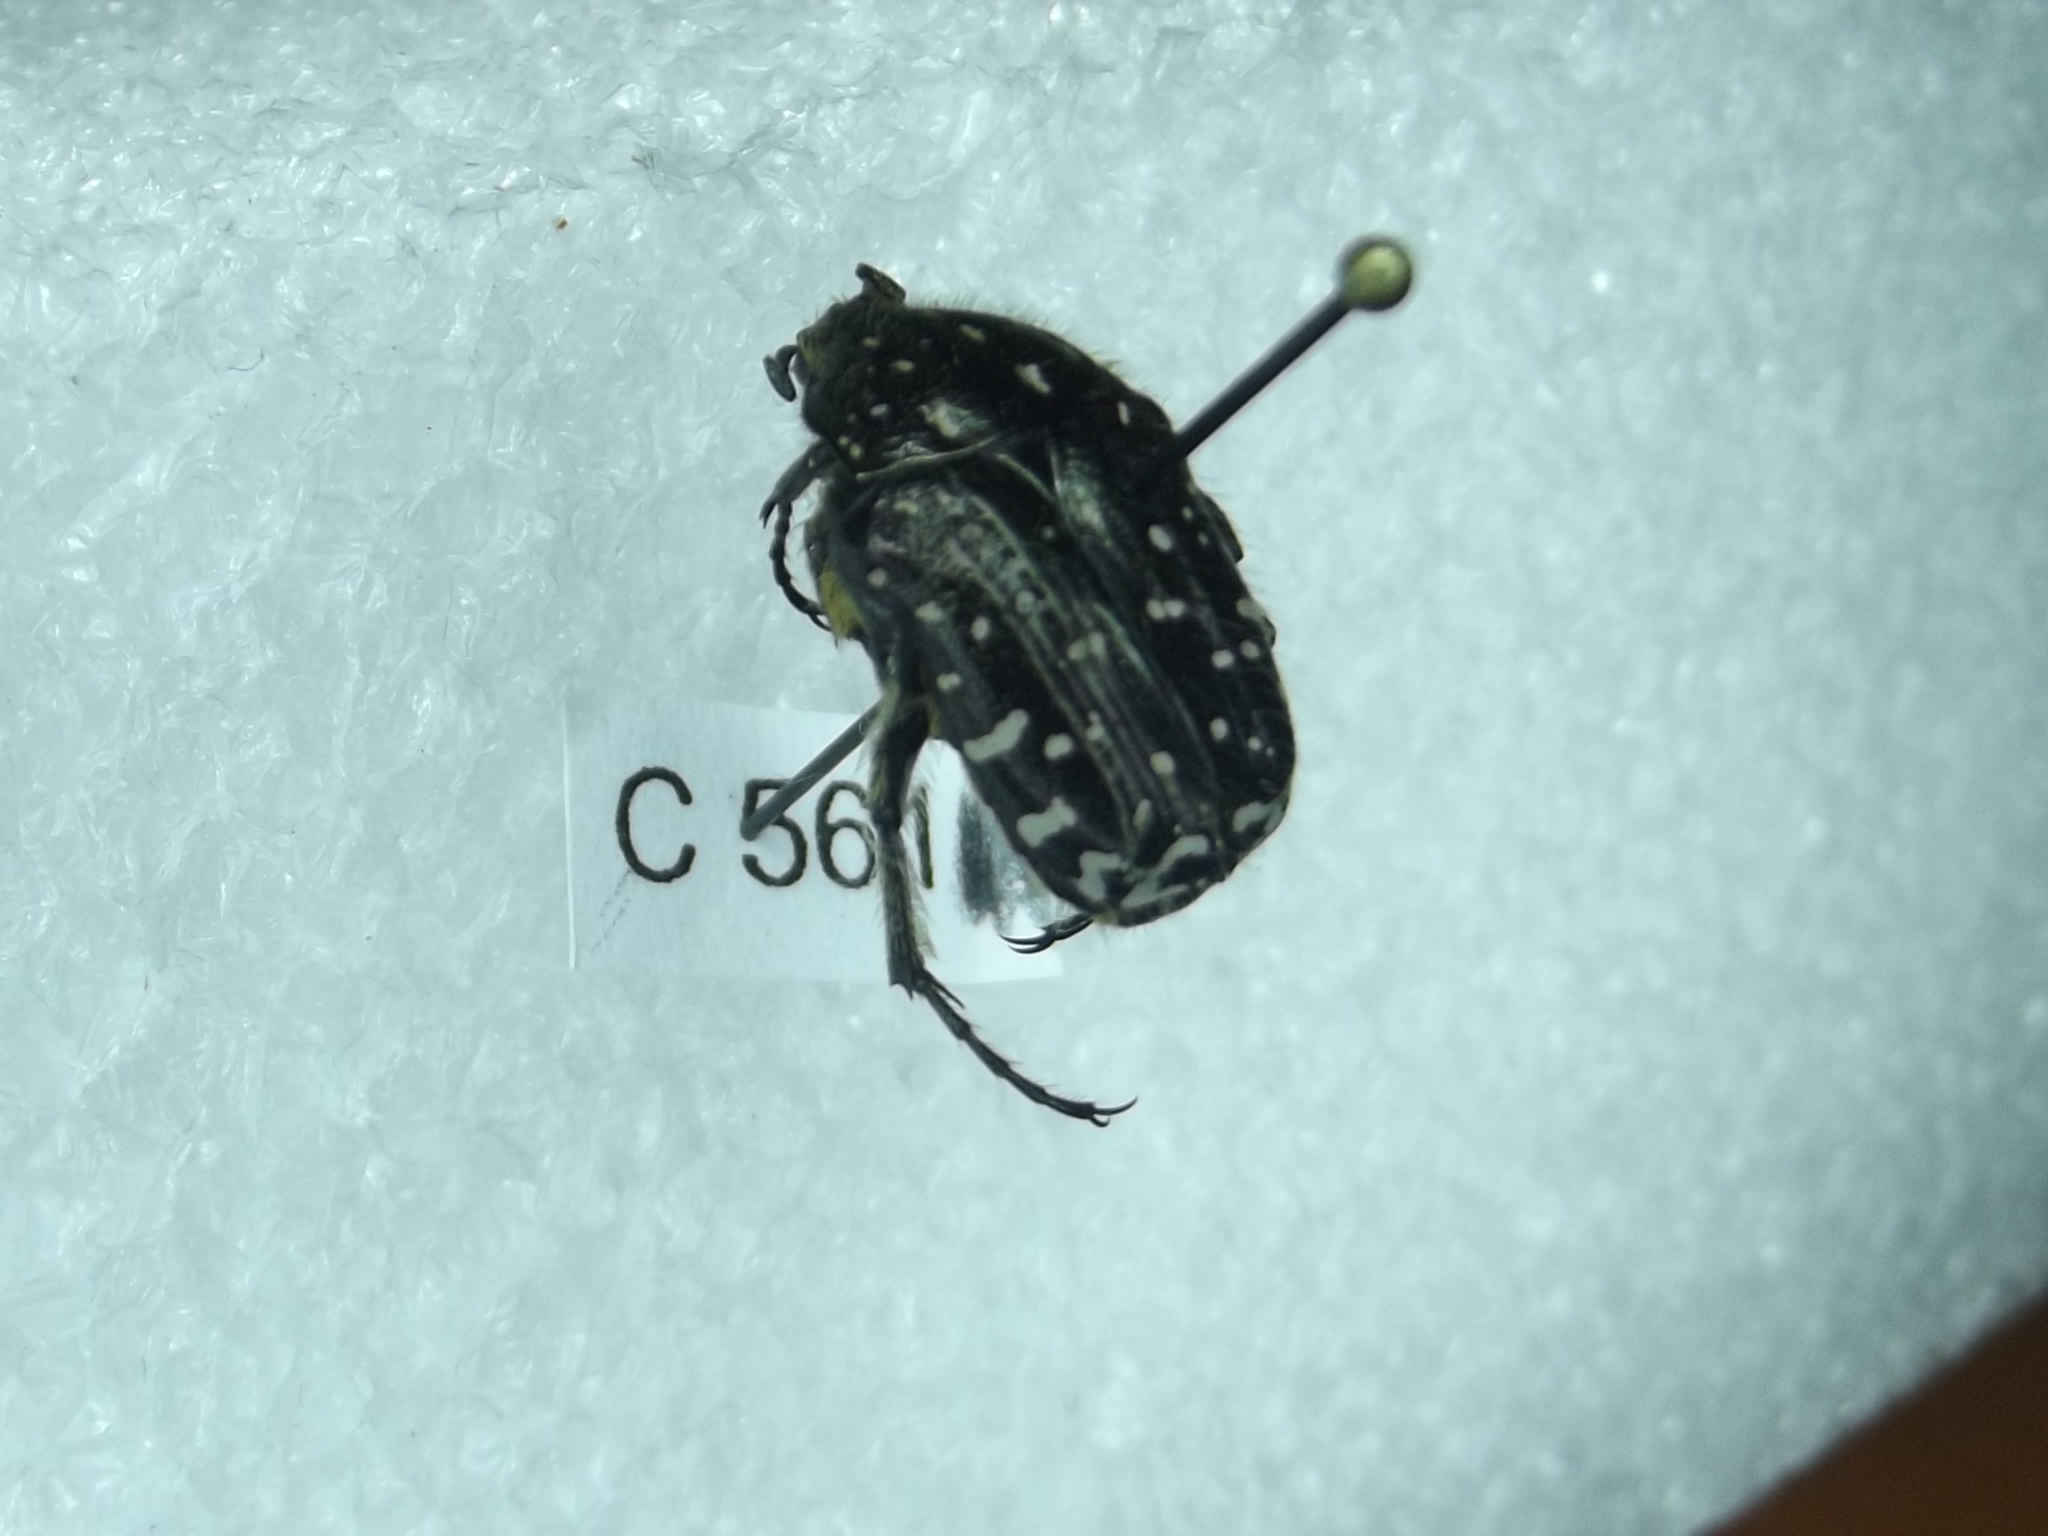Oxythyrea_funesta: (747, 253, 1308, 1163)
